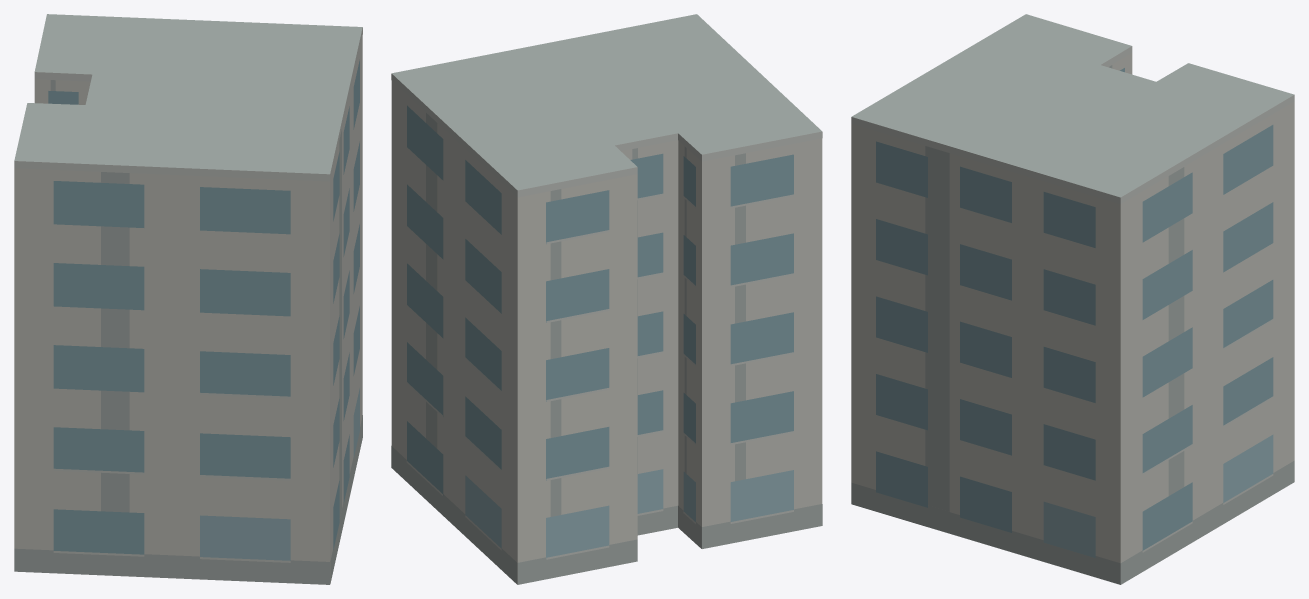
Rendered from survey-upis-32706248.glb.
3 renders of one model, left to right at view 1: azimuth 30°, elevation 25°; view 2: azimuth 150°, elevation 25°; view 3: azimuth 270°, elevation 25°, orthographic. The views are drawn at different scales.
Visible parts, largest first — view 1: survey-upis-32706248.tmp; view 2: survey-upis-32706248.tmp; view 3: survey-upis-32706248.tmp.
Part boxes in pixels (x1,y1,x2,y2): survey-upis-32706248.tmp: (14, 14, 362, 584); survey-upis-32706248.tmp: (391, 14, 822, 584); survey-upis-32706248.tmp: (851, 14, 1294, 584).
Size of the model in its own units: 13.98 by 13.75 by 14.27.
